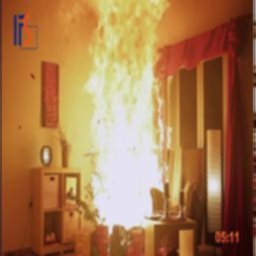fire: (61, 0, 198, 239)
